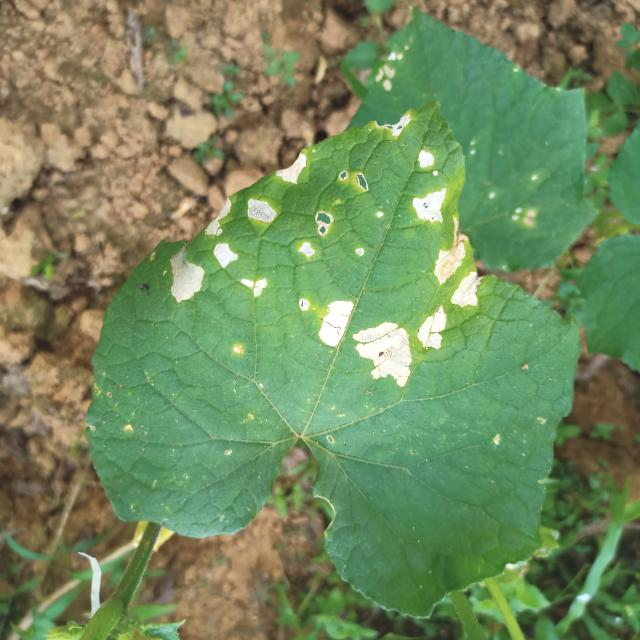disease_cucumber: (321, 295, 415, 391), (167, 237, 269, 305), (434, 239, 482, 310), (413, 146, 446, 226), (207, 198, 276, 236), (415, 302, 449, 355), (298, 208, 330, 260), (276, 150, 309, 187)
